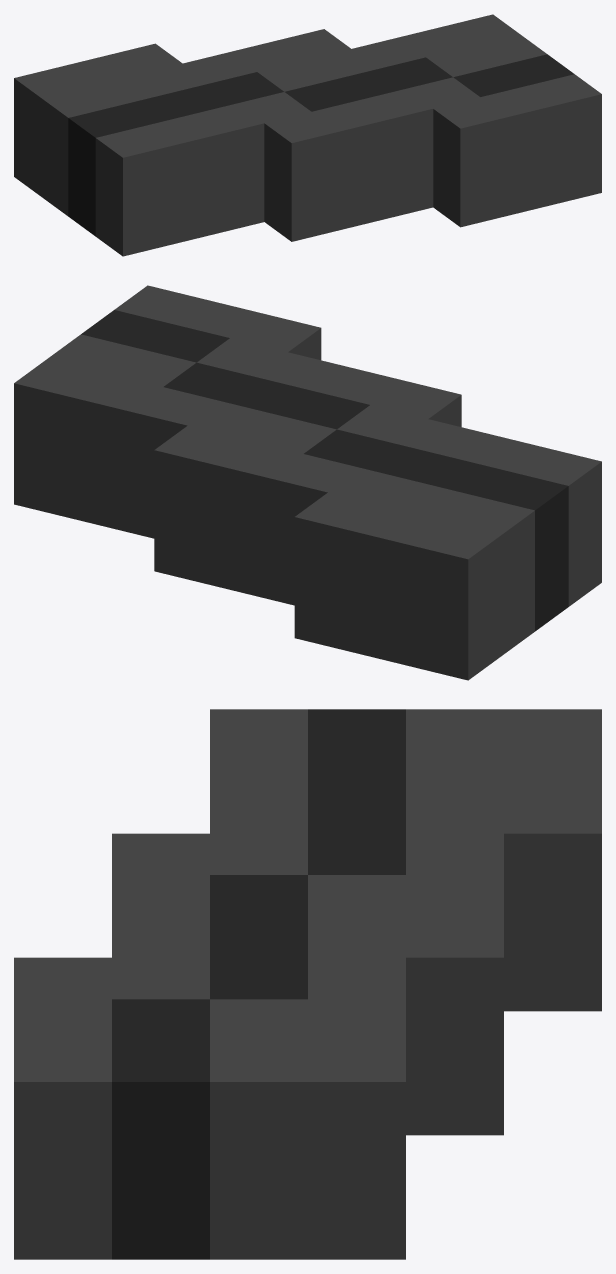
Rendered from akmag.obj.
3 views of the same model, one above another, from view 1: azimuth 30°, elevation 25°; view 2: azimuth 150°, elevation 25°; view 3: azimuth 270°, elevation 25° (orthographic). The views are drawn at different scales.
Size of the model in its own units: 0.9 by 0.2 by 0.6.
1 material, 1 textured.
